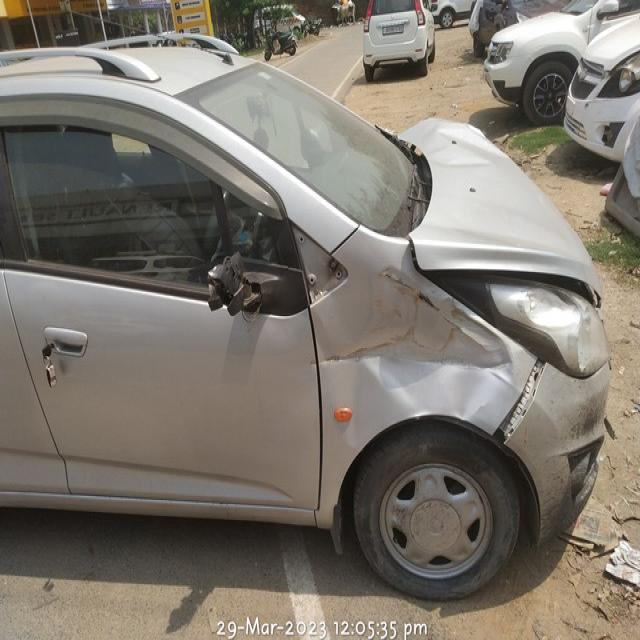damage: (353, 271, 514, 395), (409, 107, 513, 180), (207, 254, 287, 322), (289, 220, 349, 309), (485, 370, 562, 439)
